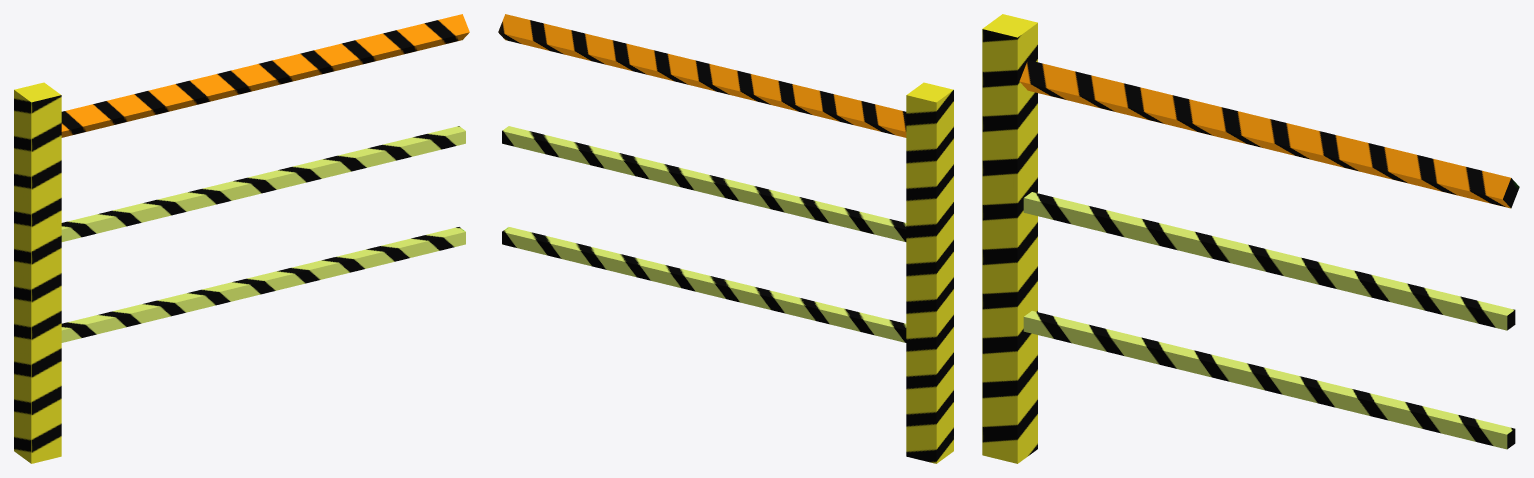
File: reja.glb
3 renders of one model, left to right at view 1: azimuth 30°, elevation 25°; view 2: azimuth 150°, elevation 25°; view 3: azimuth 330°, elevation 25°, orthographic. The views are drawn at different scales.
Parts seen in each view (by area): view 1: Malla; view 2: Malla; view 3: Malla.
Boxes of the visible parts, bbox=[...] form: Malla: bbox=[14, 14, 469, 463]; Malla: bbox=[498, 14, 953, 463]; Malla: bbox=[982, 14, 1519, 463].
Size of the model in its own units: 6.38 by 5.01 by 0.4363.
Materials: 1 (1 with a texture image).
